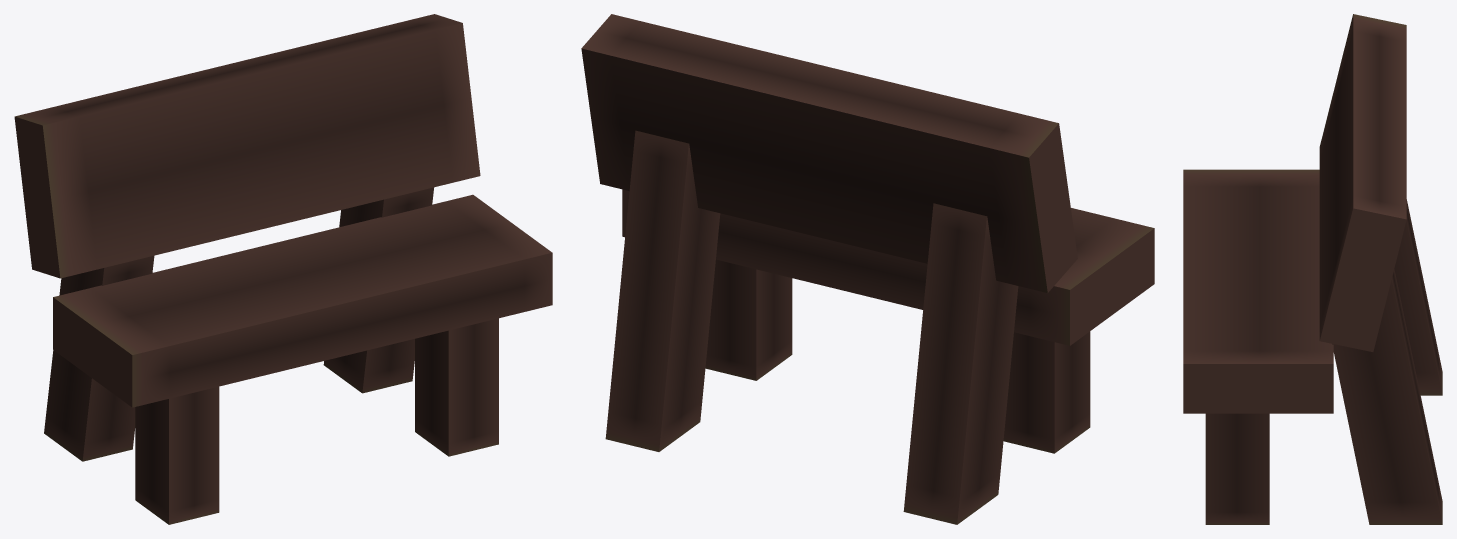
File: bench_v01.fbx
3 views of the same model, side by side, from view 1: azimuth 30°, elevation 25°; view 2: azimuth 150°, elevation 25°; view 3: azimuth 270°, elevation 25° (orthographic). The views are drawn at different scales.
Parts seen in each view (by area): view 1: bench_v01; view 2: bench_v01; view 3: bench_v01.
Part boxes in pixels (bbox=[...]): bench_v01: bbox=[14, 14, 552, 524]; bench_v01: bbox=[581, 14, 1154, 524]; bench_v01: bbox=[1183, 14, 1442, 524].
Size of the model in its own units: 175 by 141 by 98.86.
